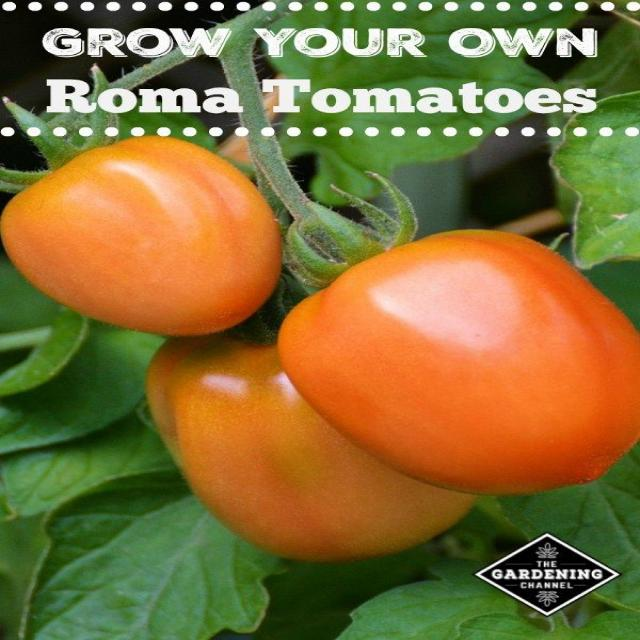level 5: (284, 224, 640, 494), (137, 297, 487, 562), (0, 136, 284, 336)
